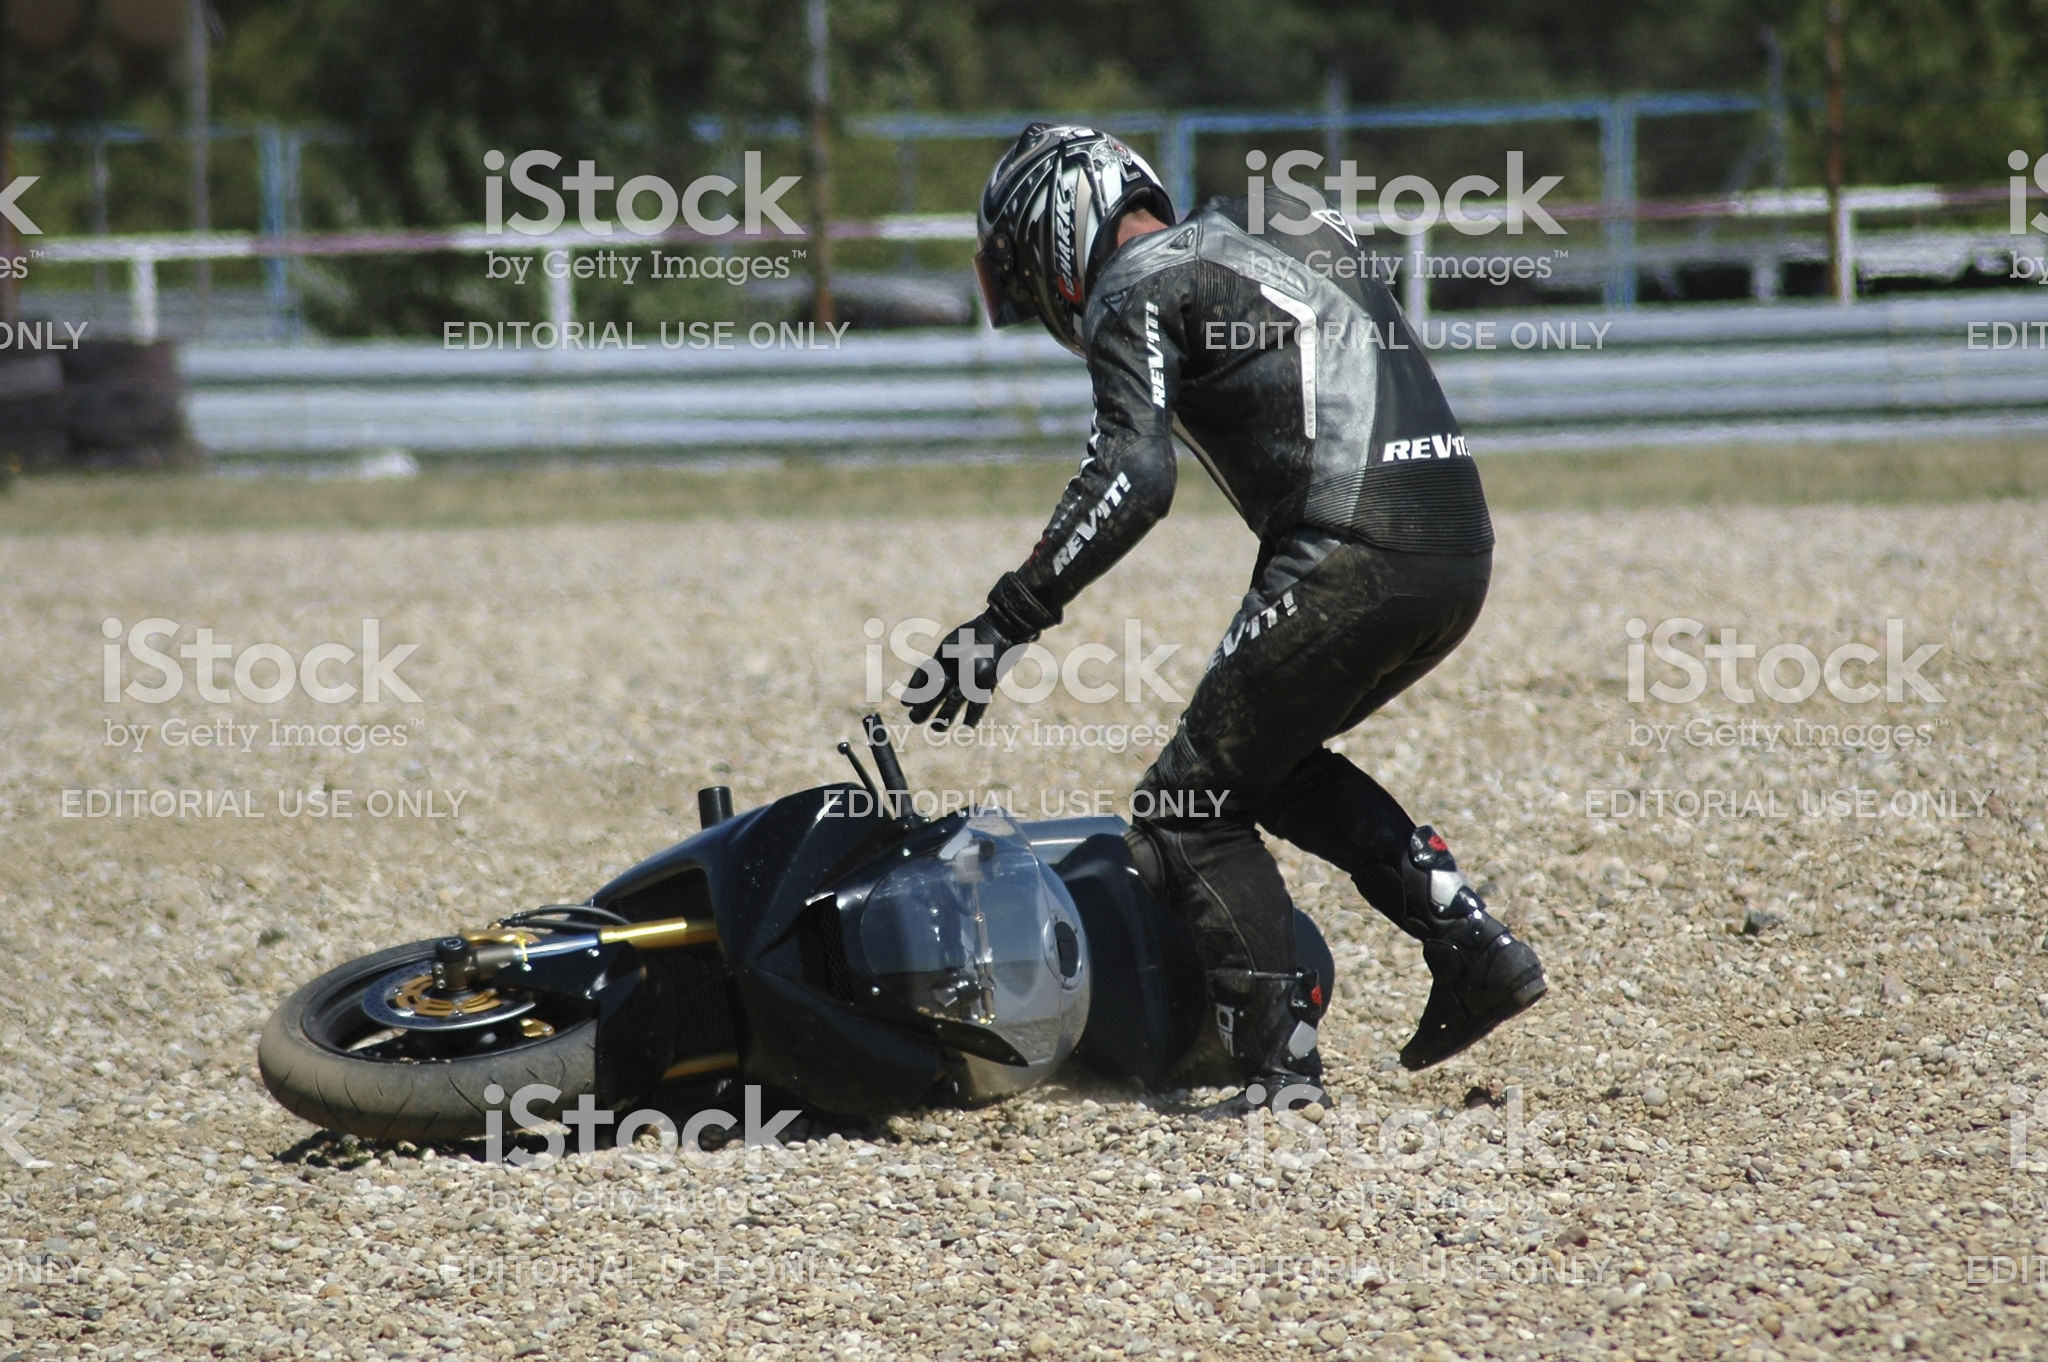helmet: (977, 102, 1174, 304)
